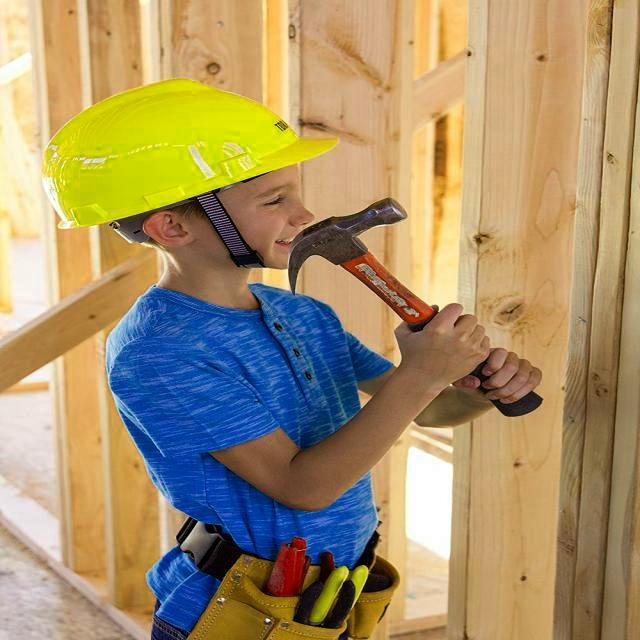hammer: (276, 190, 558, 424)
